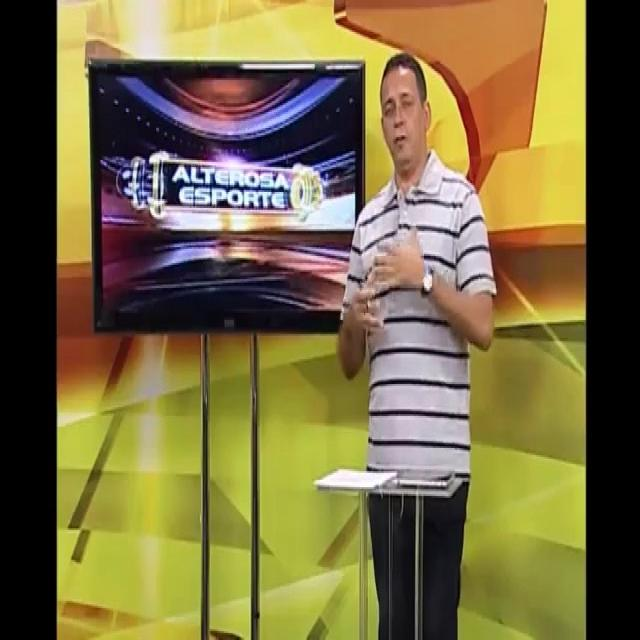shirt: (339, 148, 498, 487)
